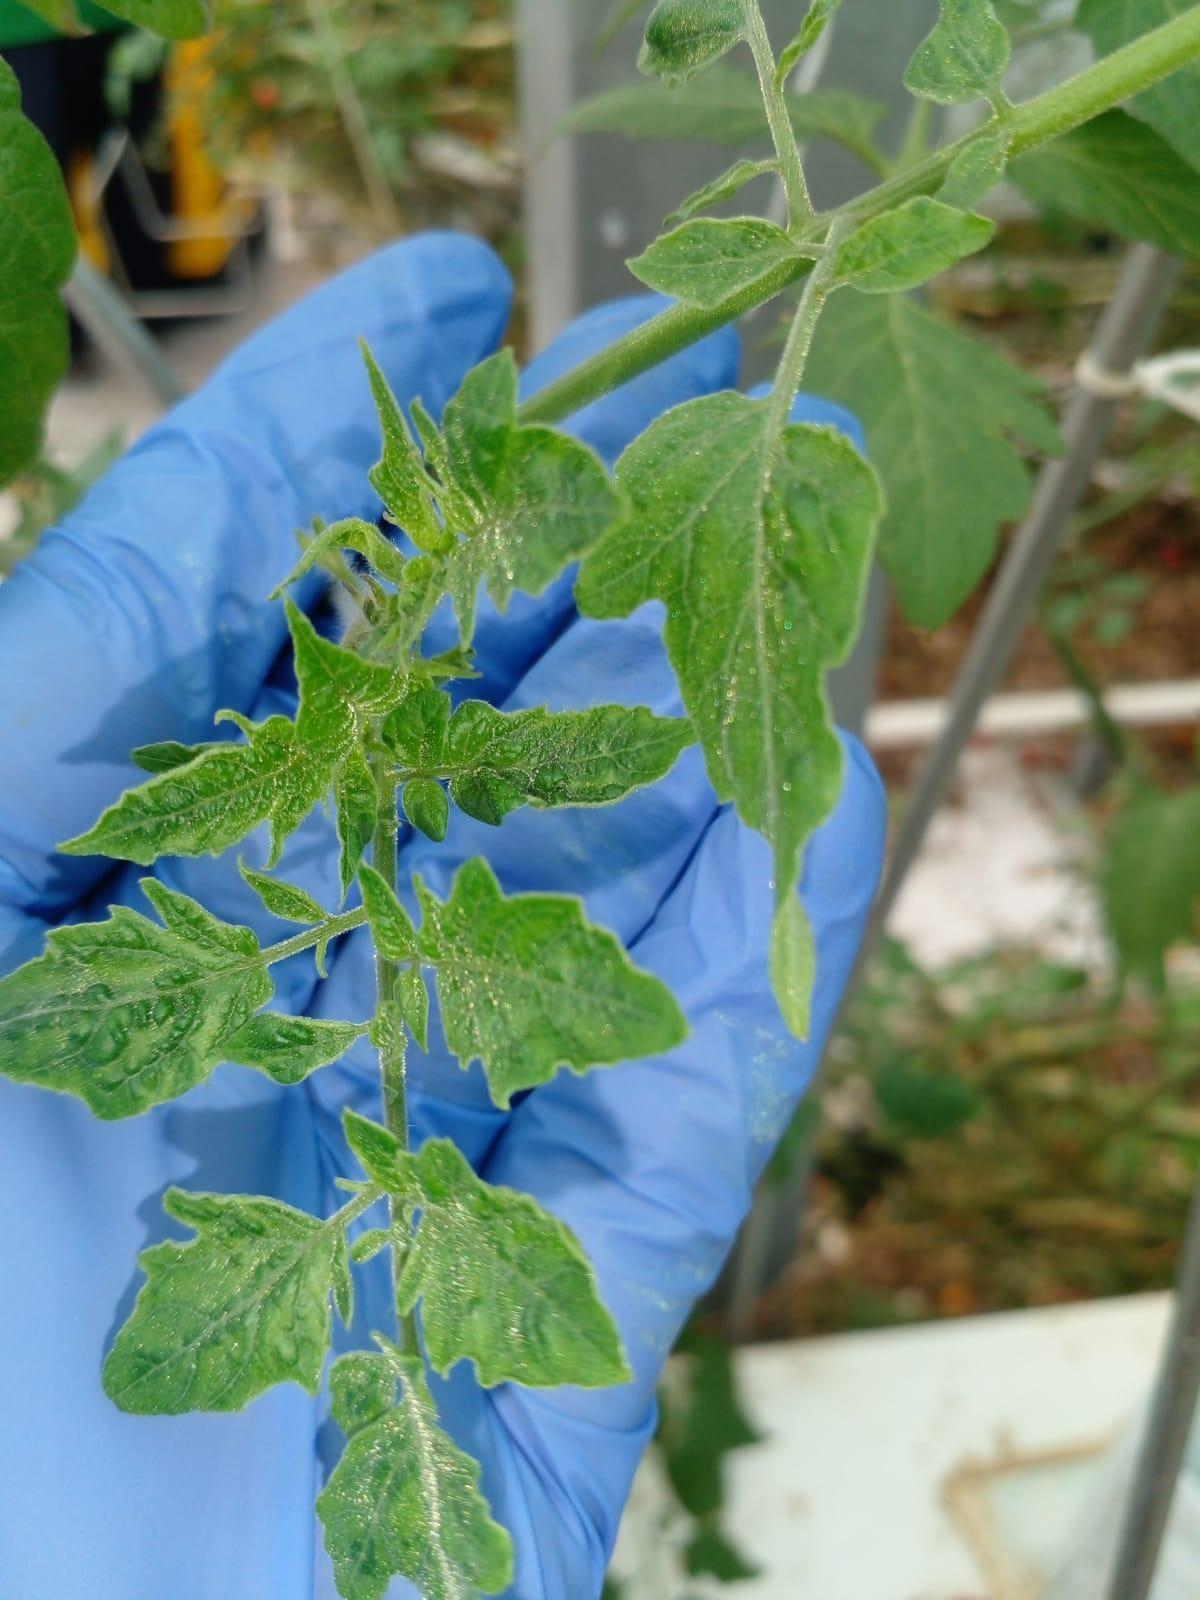Rugose leaf: (578, 391, 881, 1031), (413, 857, 686, 1110), (0, 878, 270, 1120), (99, 1188, 359, 1416), (395, 1141, 629, 1388), (441, 350, 619, 641), (316, 1338, 512, 1600), (59, 716, 328, 862), (444, 700, 694, 825), (288, 603, 409, 766), (628, 216, 803, 309), (834, 197, 994, 294)
Rugose stem: (359, 772, 428, 1144), (266, 906, 366, 978)
